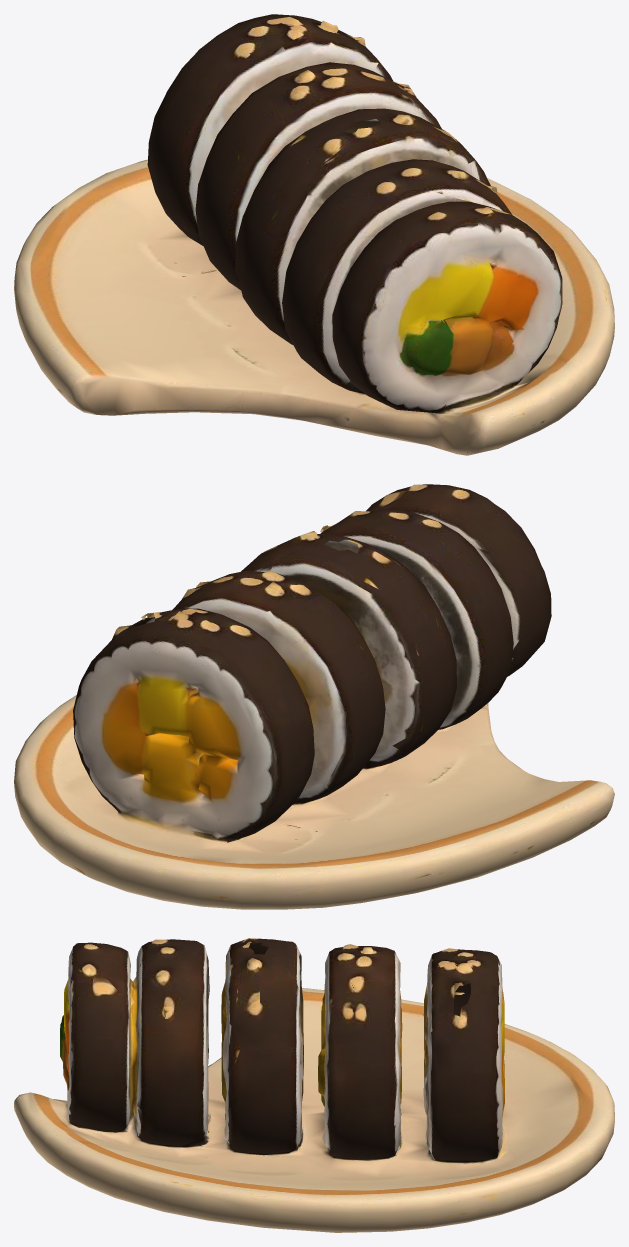
3 views of the same model, one above another, from view 1: azimuth 30°, elevation 25°; view 2: azimuth 150°, elevation 25°; view 3: azimuth 270°, elevation 25° (orthographic). The views are drawn at different scales.
Visible parts, largest first — view 1: gimbap; view 2: gimbap; view 3: gimbap.
Boxes of the visible parts, <box> form: gimbap: <box>14,14,614,455</box>; gimbap: <box>14,484,614,909</box>; gimbap: <box>14,938,614,1232</box>.
Bounding box in the file's own units: 0.1738 × 0.0747 × 0.2001.
Materials: 1 (1 with a texture image).
